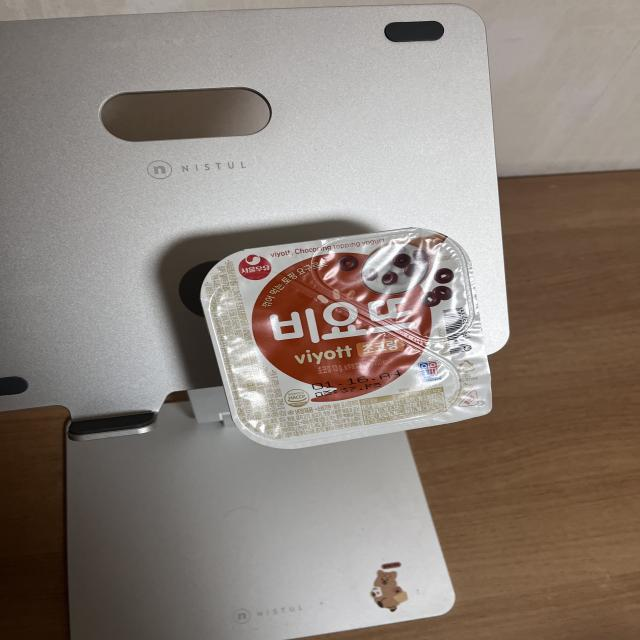bYott: (209, 236, 482, 430)
